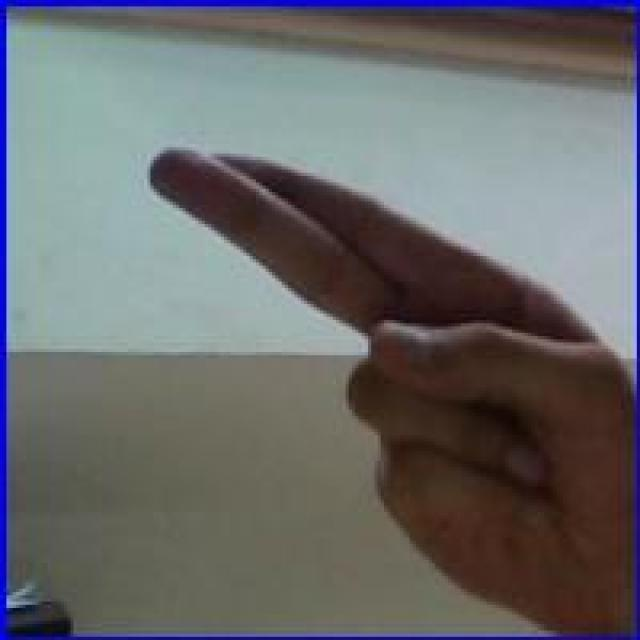H: (136, 136, 629, 632)
